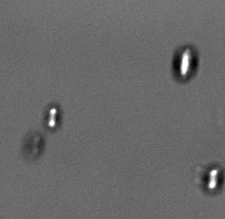Dead Cell: (22, 132, 45, 157)
Living Cell: (171, 42, 200, 84), (200, 161, 222, 194), (45, 106, 60, 130)
